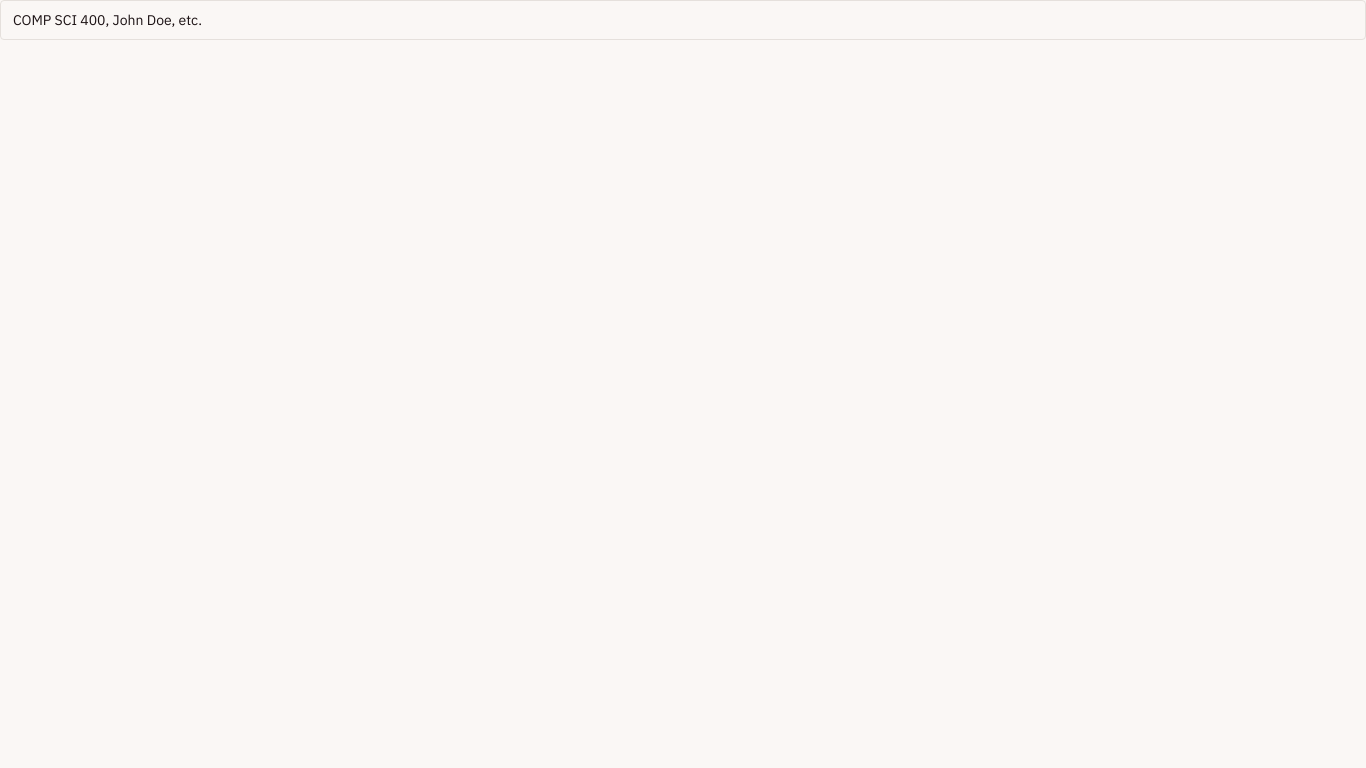
Scenario: SearchAutocomplete › arrow up from nothing wraps to the last suggestion
Step 1. Type "comp" into the dropdown → (683, 20), box top-left (0, 0), bottom-right (1365, 40)
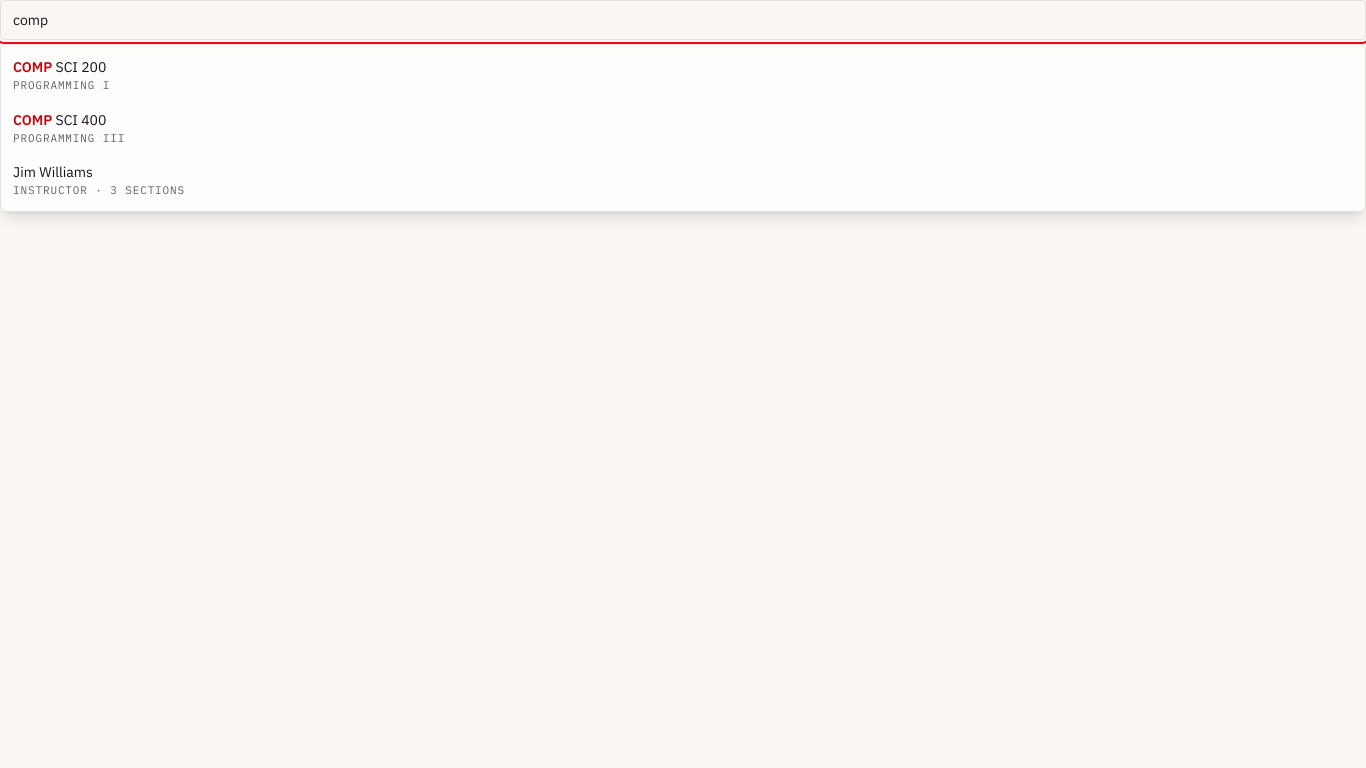
Now the option "COMP SCI 200 Programming I" is shown, box top-left (13, 58), bottom-right (110, 92)
Step 2. Press Arrowup Enter
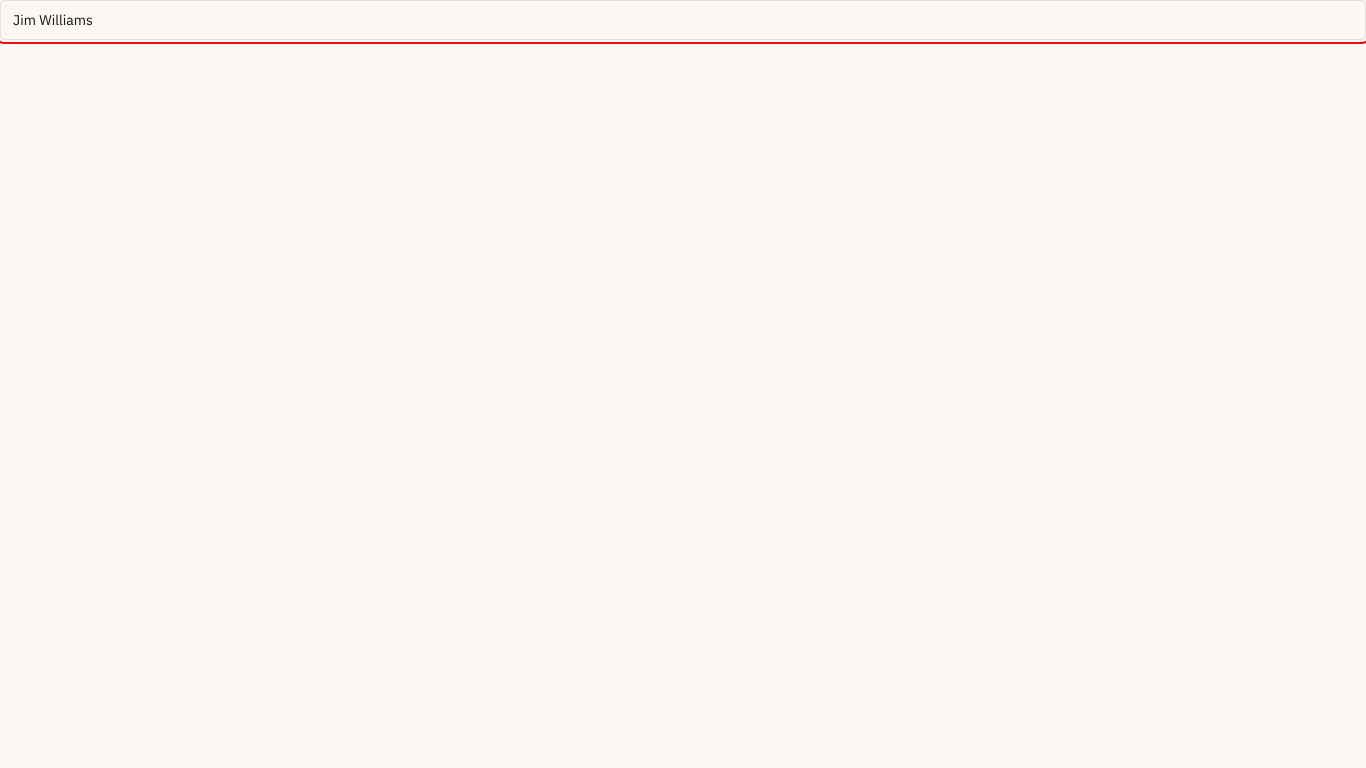
Now the dropdown holds "Jim Williams", box top-left (0, 0), bottom-right (1365, 40)
